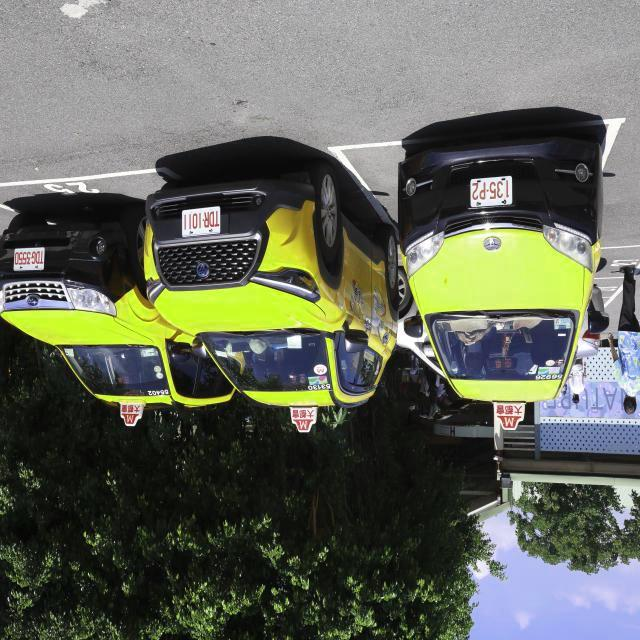taxi: (142, 124, 399, 452), (397, 102, 609, 453), (1, 176, 227, 458)
